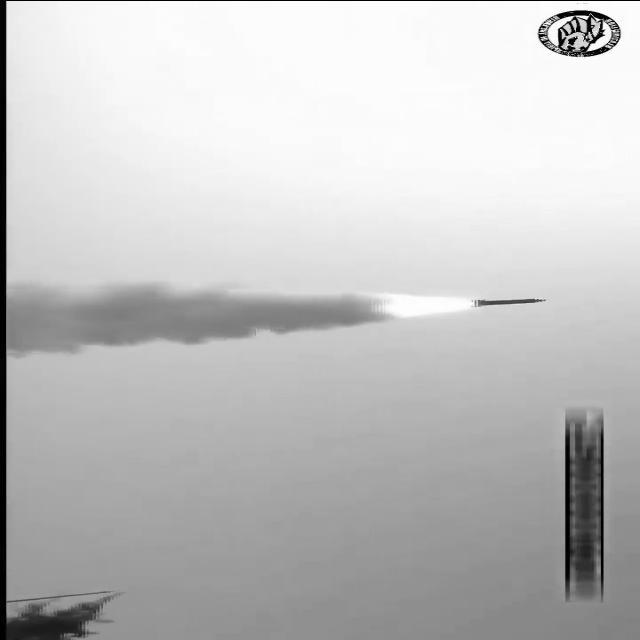Missile: (470, 294, 550, 308)
